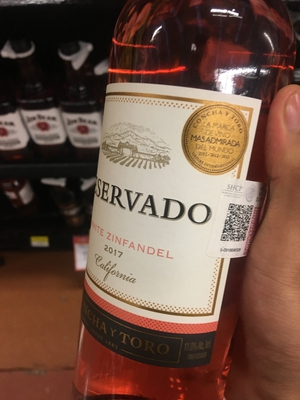reservado white zinfandel: (73, 8, 284, 371)
